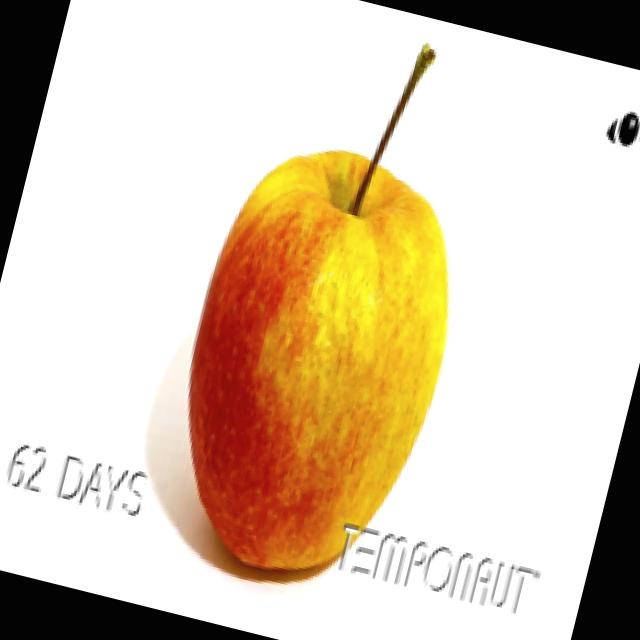Fresh_Apple: (142, 0, 523, 602)
